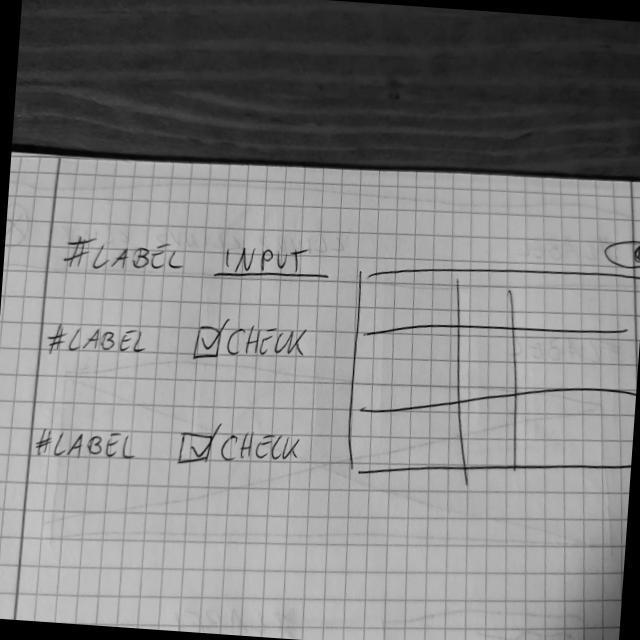checkbox: (176, 423, 305, 475), (192, 315, 313, 369)
input: (210, 235, 334, 289)
label: (62, 231, 188, 282), (34, 422, 138, 468), (44, 319, 149, 361)
table: (342, 252, 640, 497)
toggle: (600, 235, 640, 272)
